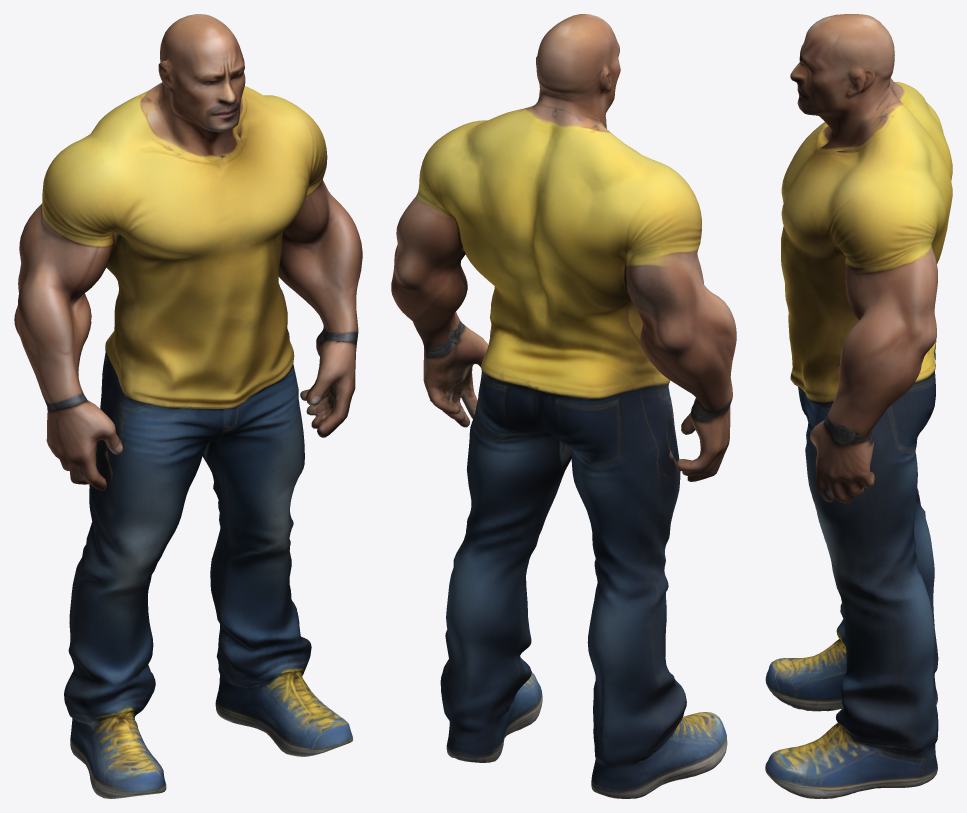
Rendered from _realistic_Dwayne_Jo_0721062414_.fbx.
3 views of the same model, side by side, from view 1: azimuth 30°, elevation 25°; view 2: azimuth 150°, elevation 25°; view 3: azimuth 270°, elevation 25° (orthographic).
Visible parts, largest first — view 1: Mesh1_Mesh1.080; view 2: Mesh1_Mesh1.080; view 3: Mesh1_Mesh1.080.
Part boxes in pixels (left/top/right/bottom): Mesh1_Mesh1.080: left=14, top=14, right=362, bottom=798; Mesh1_Mesh1.080: left=391, top=14, right=736, bottom=798; Mesh1_Mesh1.080: left=765, top=14, right=952, bottom=798.
Bounding box in the file's own units: 94.53 × 200 × 46.81.
1 material, 1 textured.
